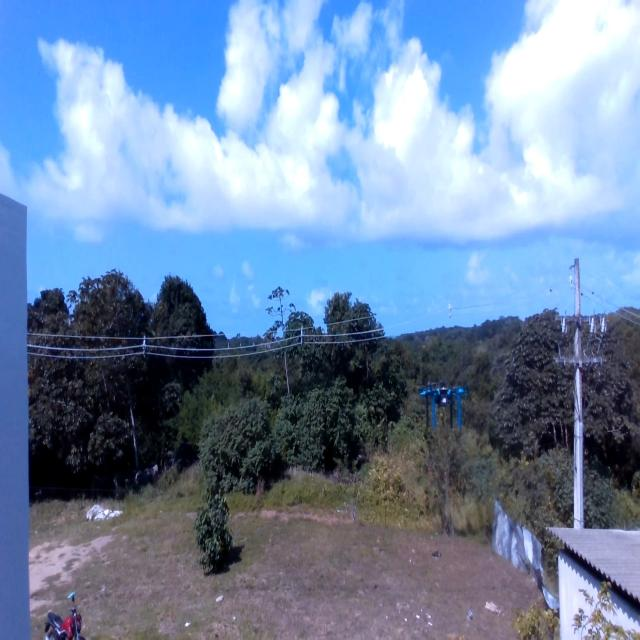-uav-: (412, 364, 470, 438)
